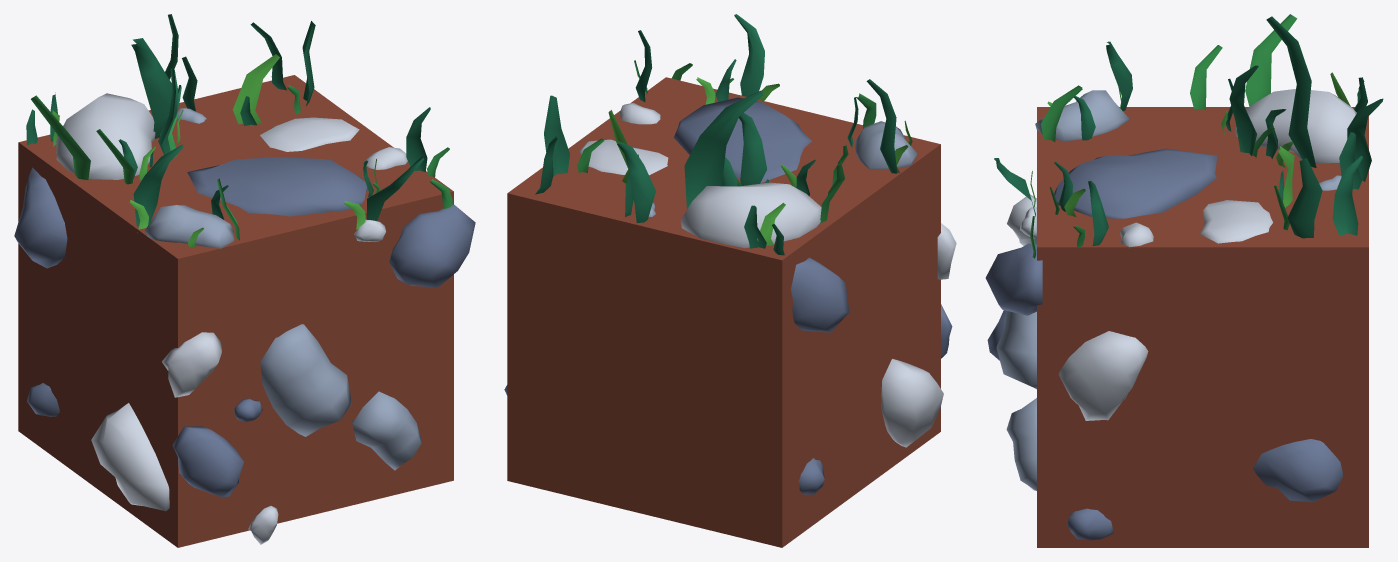
The model's file is tileFloor.glb.
3 views of the same model, side by side, from view 1: azimuth 30°, elevation 25°; view 2: azimuth 150°, elevation 25°; view 3: azimuth 270°, elevation 25° (orthographic). The views are drawn at different scales.
Parts seen in each view (by area): view 1: floor; view 2: floor; view 3: floor.
Boxes of the visible parts, x1=… form: floor: x1=14, y1=14, x2=475, y2=547; floor: x1=504, y1=14, x2=956, y2=547; floor: x1=985, y1=14, x2=1383, y2=547.
Size of what is drawn, in the model's own units: 2.43 by 2.93 by 2.4.
1 material, 1 textured.
